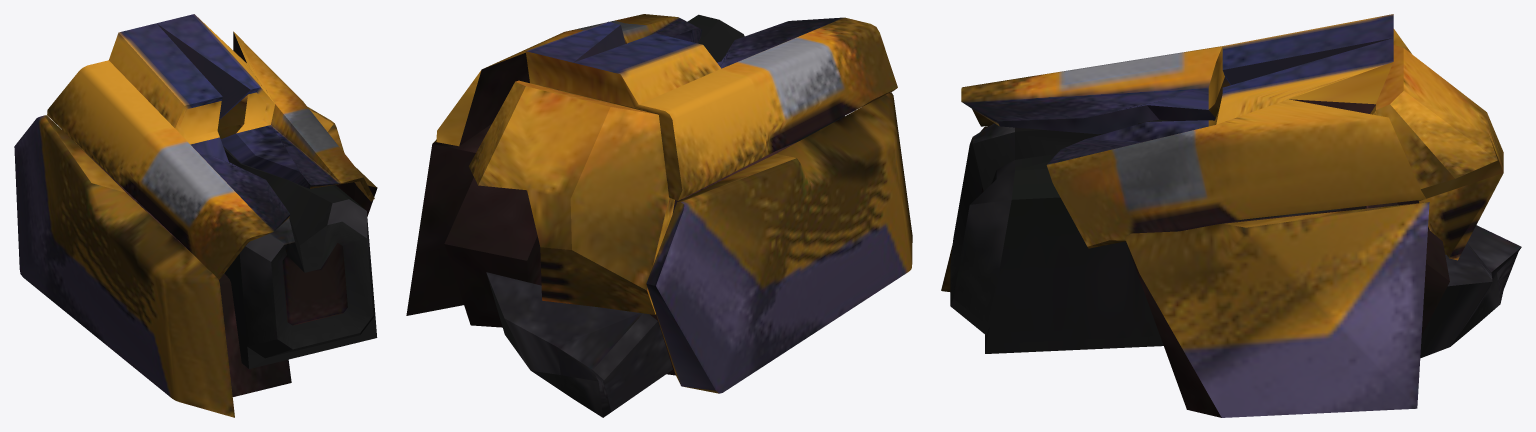
The model's file is Chariot03_danqiping_sunhuai.FBX.
The picture shows the model from 3 angles, left to right: view 1: azimuth 30°, elevation 25°; view 2: azimuth 150°, elevation 25°; view 3: azimuth 270°, elevation 25°; orthographic projection. The views are drawn at different scales.
Parts seen in each view (by area): view 1: Chariot03_danqiping_sunhuai; view 2: Chariot03_danqiping_sunhuai; view 3: Chariot03_danqiping_sunhuai.
Boxes of the visible parts, x1,y1,x2,y2 form: Chariot03_danqiping_sunhuai: [14, 14, 377, 417]; Chariot03_danqiping_sunhuai: [406, 14, 912, 417]; Chariot03_danqiping_sunhuai: [941, 14, 1521, 417].
Size of the model in its own units: 0.6219 by 0.5749 by 0.9642.
